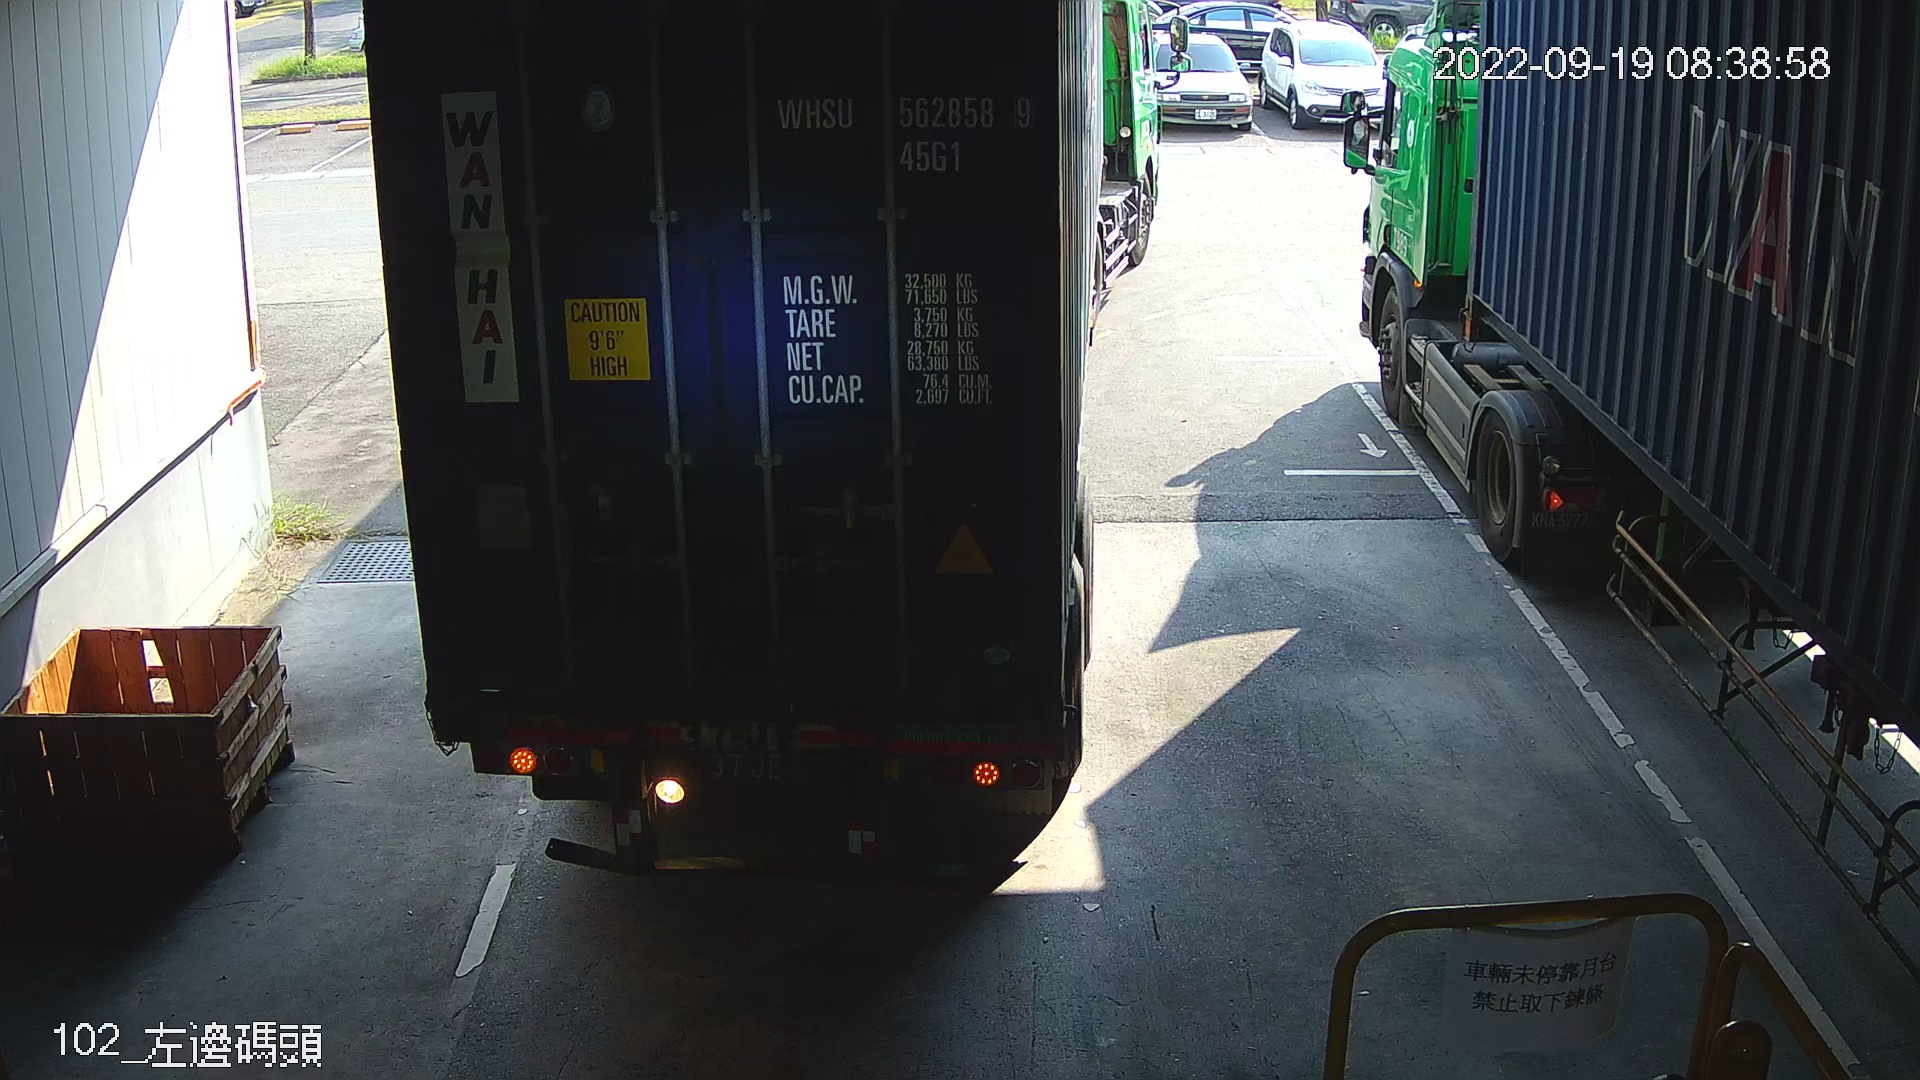container: (764, 76, 1044, 185)
